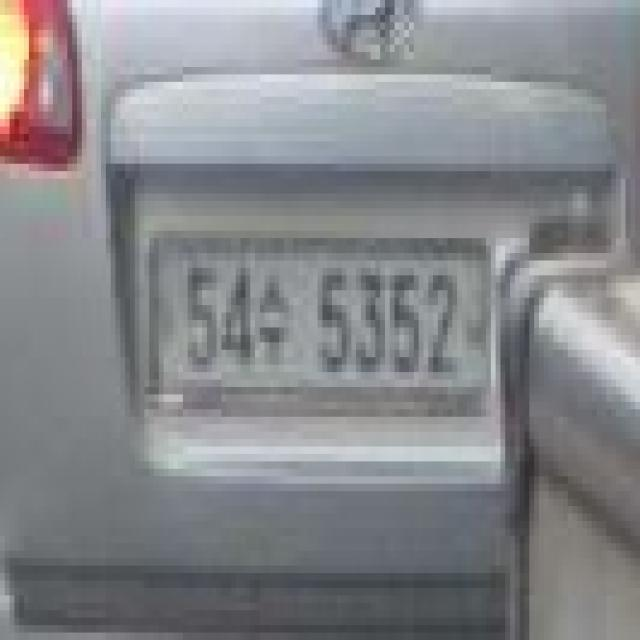2: (419, 260, 462, 387)
3: (356, 253, 385, 387)
4: (217, 246, 255, 380)
5: (183, 253, 221, 387), (313, 268, 351, 387), (389, 253, 418, 380)
license_plate: (139, 238, 491, 417)
su: (250, 246, 289, 372)
